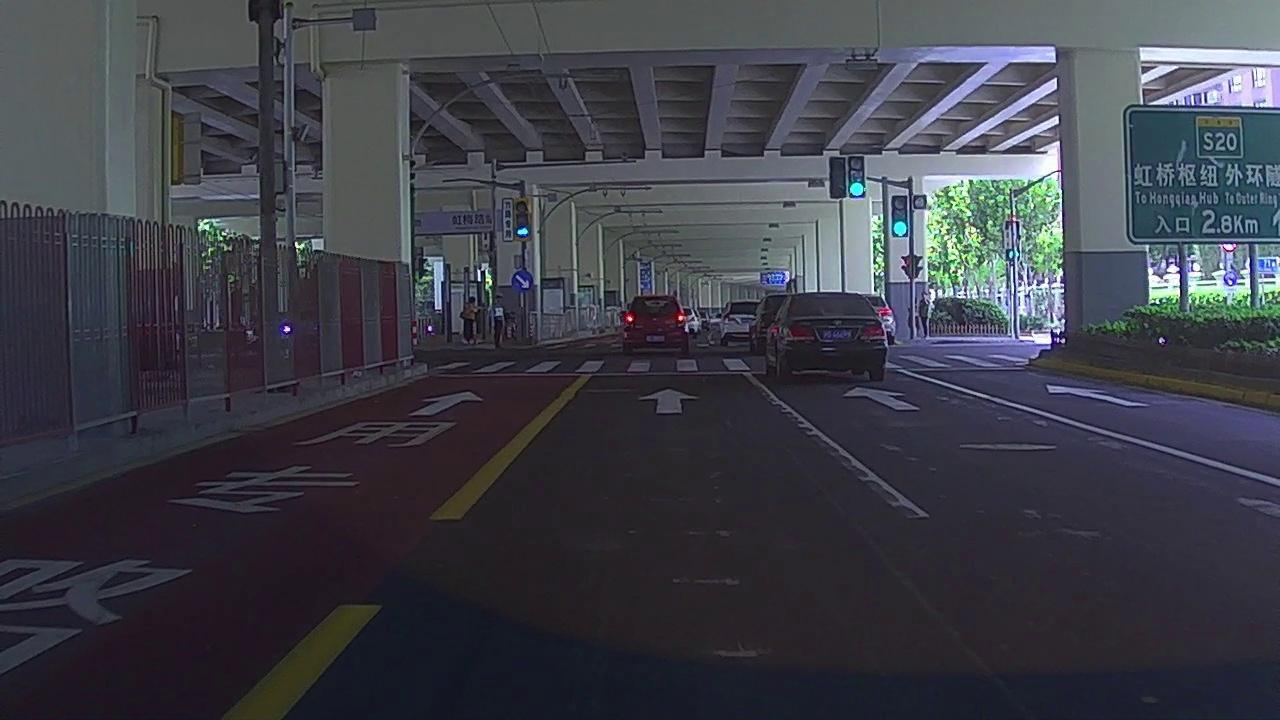traffic_light: (847, 157, 865, 198), (892, 196, 908, 238), (829, 158, 845, 198)
